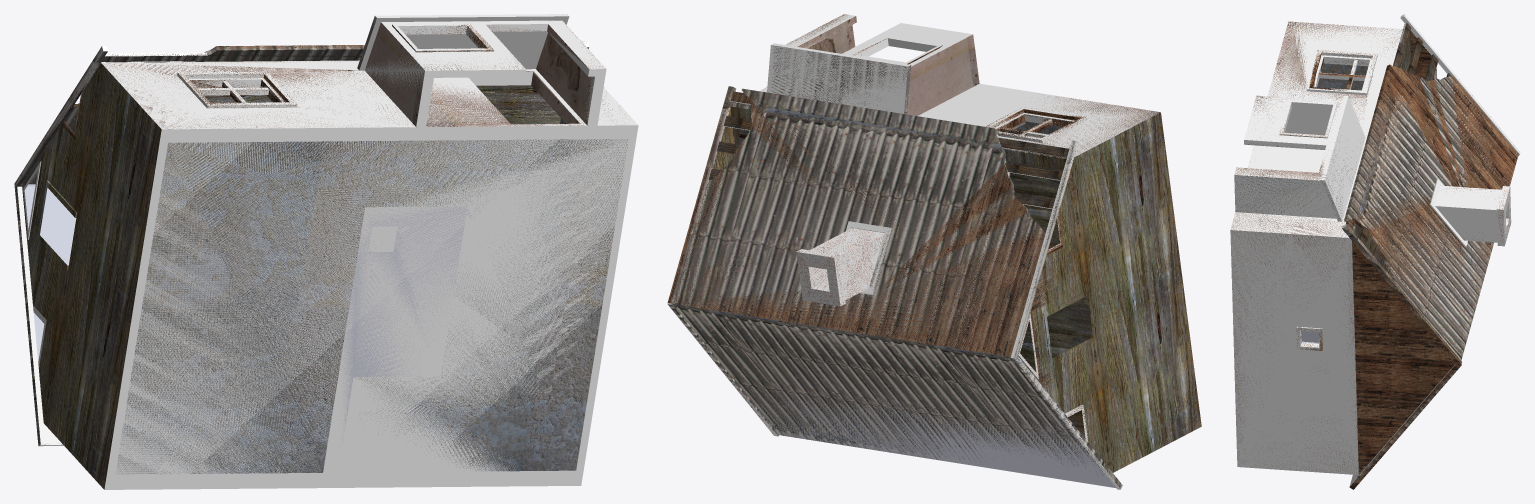
Rendered from HouseUse.fbx.
3 views of the same model, side by side, from view 1: azimuth 30°, elevation 25°; view 2: azimuth 150°, elevation 25°; view 3: azimuth 270°, elevation 25° (orthographic). The views are drawn at different scales.
Parts seen in each view (by area): view 1: Material2.002; view 2: Material2.002; view 3: Material2.002.
Boxes of the visible parts, <box> form: Material2.002: <box>14,14,638,489</box>; Material2.002: <box>667,14,1201,489</box>; Material2.002: <box>1230,14,1520,489</box>.
Bounding box in the file's own units: 0.000524 × 0.000451 × 0.000349.
